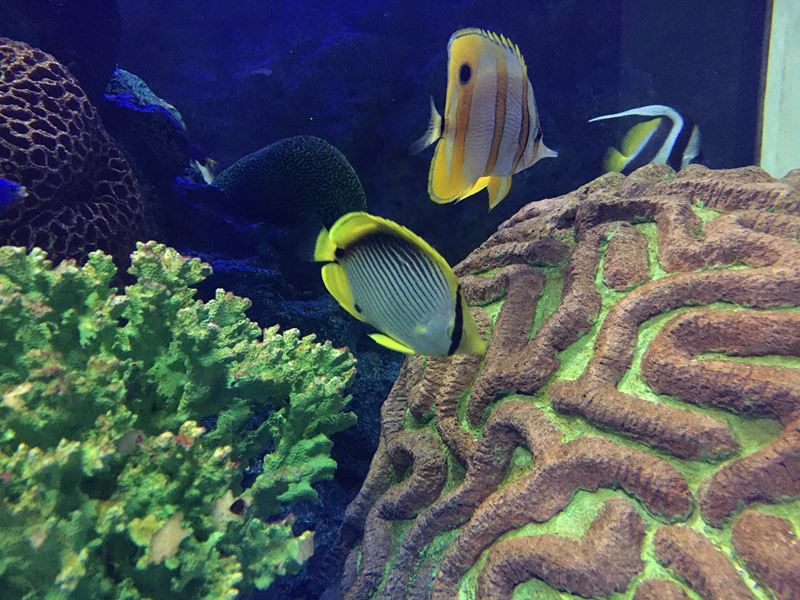Black-backed butterflyfish: (284, 202, 502, 369)
